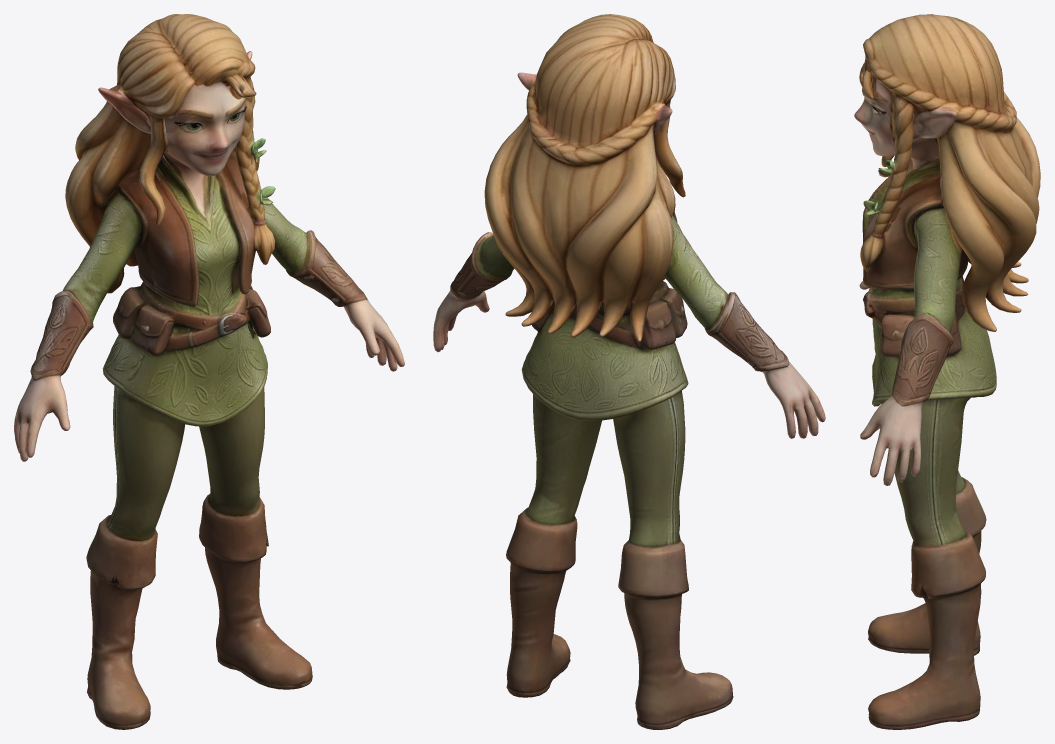
The model's file is elf.glb.
3 views of the same model, side by side, from view 1: azimuth 30°, elevation 25°; view 2: azimuth 150°, elevation 25°; view 3: azimuth 270°, elevation 25° (orthographic).
Parts seen in each view (by area): view 1: tripo_node_d6319469-6c2d-4a7e-8448-74acd893da73; view 2: tripo_node_d6319469-6c2d-4a7e-8448-74acd893da73; view 3: tripo_node_d6319469-6c2d-4a7e-8448-74acd893da73.
Part boxes in pixels (x1,y1,x2,y2): tripo_node_d6319469-6c2d-4a7e-8448-74acd893da73: [14, 14, 404, 729]; tripo_node_d6319469-6c2d-4a7e-8448-74acd893da73: [433, 14, 825, 729]; tripo_node_d6319469-6c2d-4a7e-8448-74acd893da73: [854, 14, 1040, 729].
Bounding box in the file's own units: 0.5789 × 0.9794 × 0.249.
1 material, 1 textured.
